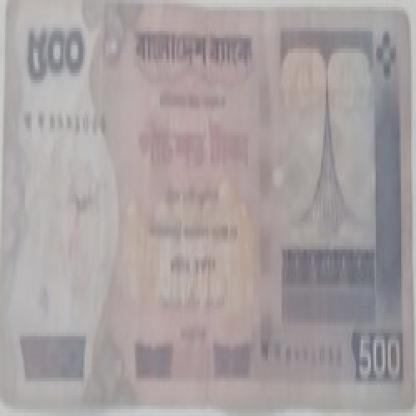500 taka: (18, 27, 93, 80), (353, 326, 409, 395)
currency: (1, 0, 413, 409)
